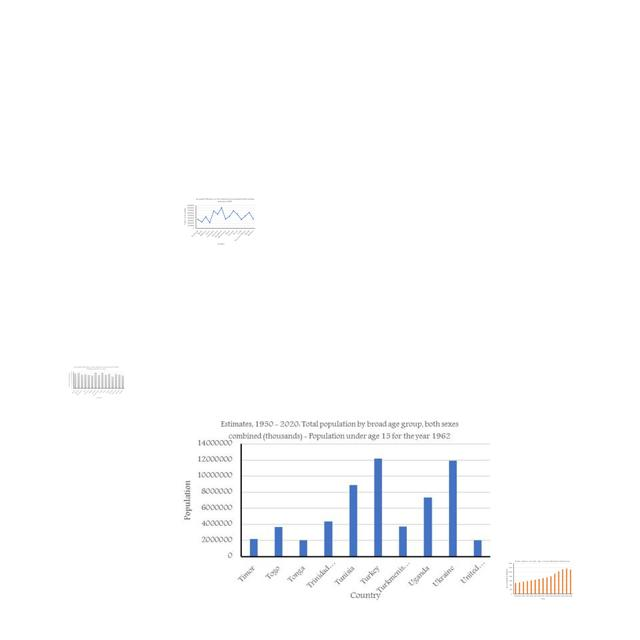Graph: (181, 416, 497, 602), (183, 197, 257, 246), (505, 559, 574, 600), (67, 365, 126, 400)
